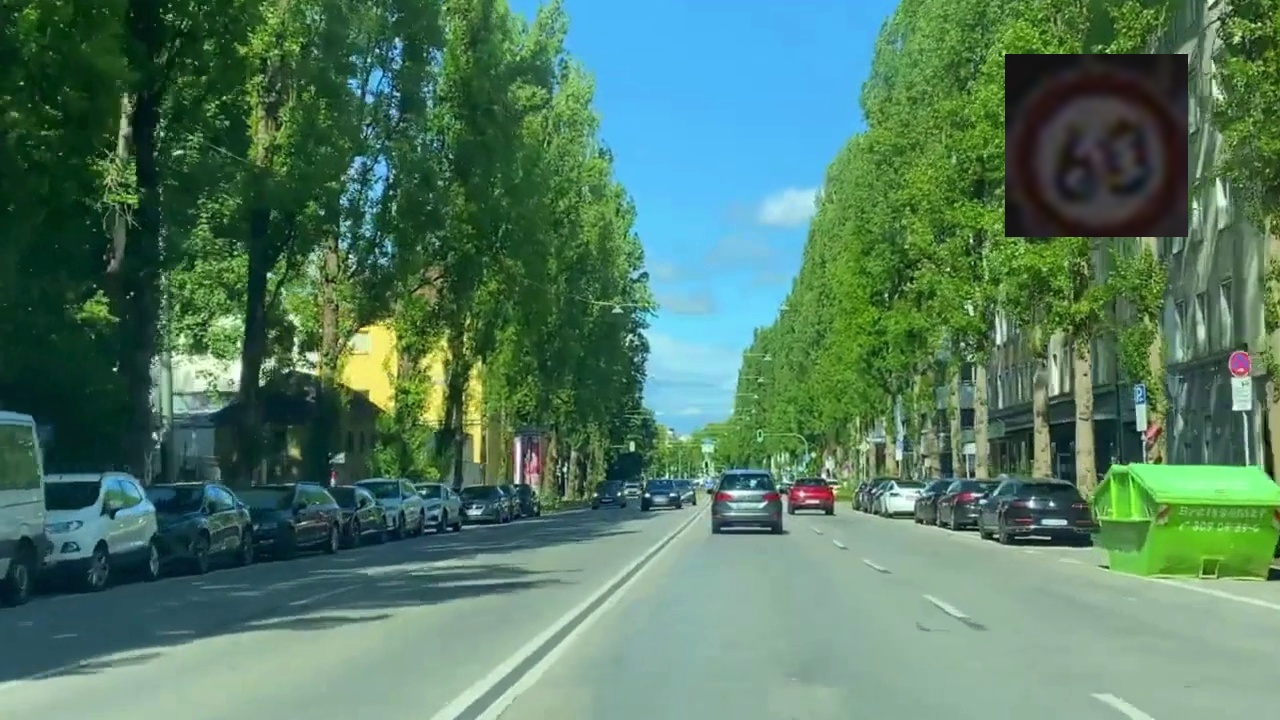Speed 60: (1005, 54, 1188, 237)
